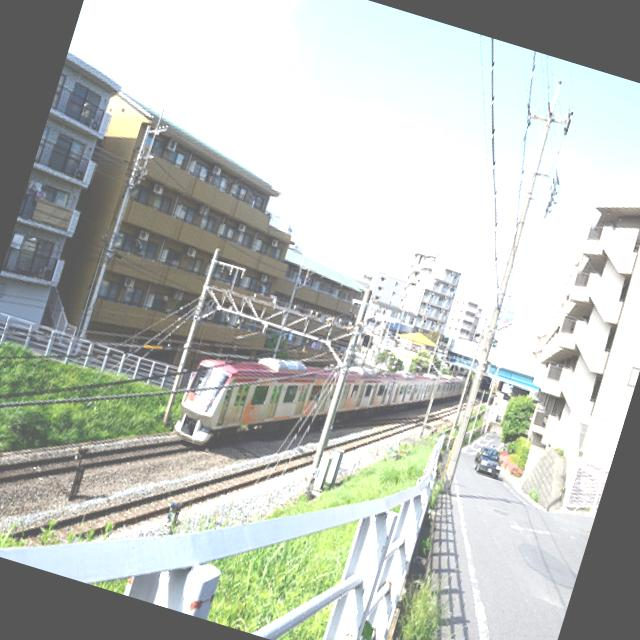Vehicle: (470, 443, 508, 478)
